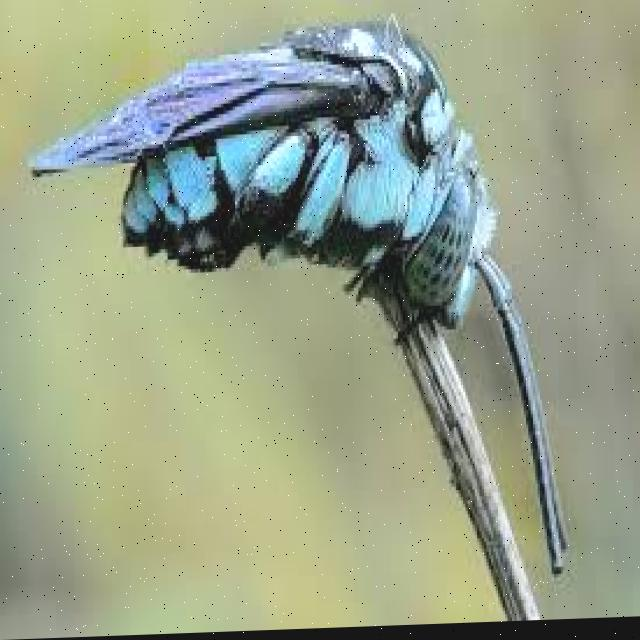Thyreus: (35, 5, 601, 579)
